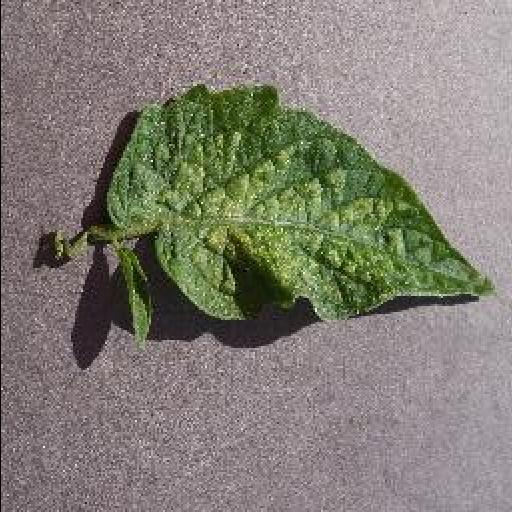disease_tomato: (108, 86, 494, 322)
